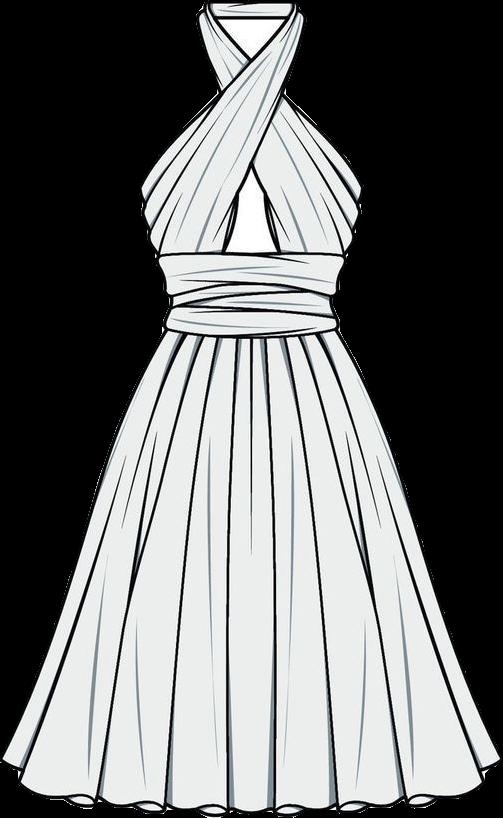Bodice: (141, 2, 361, 342)
Hemline: (1, 752, 502, 817)
Neckline: (154, 158, 347, 261), (204, 4, 297, 67)
Skirt: (3, 330, 499, 817)
Waistline: (159, 322, 344, 346)
